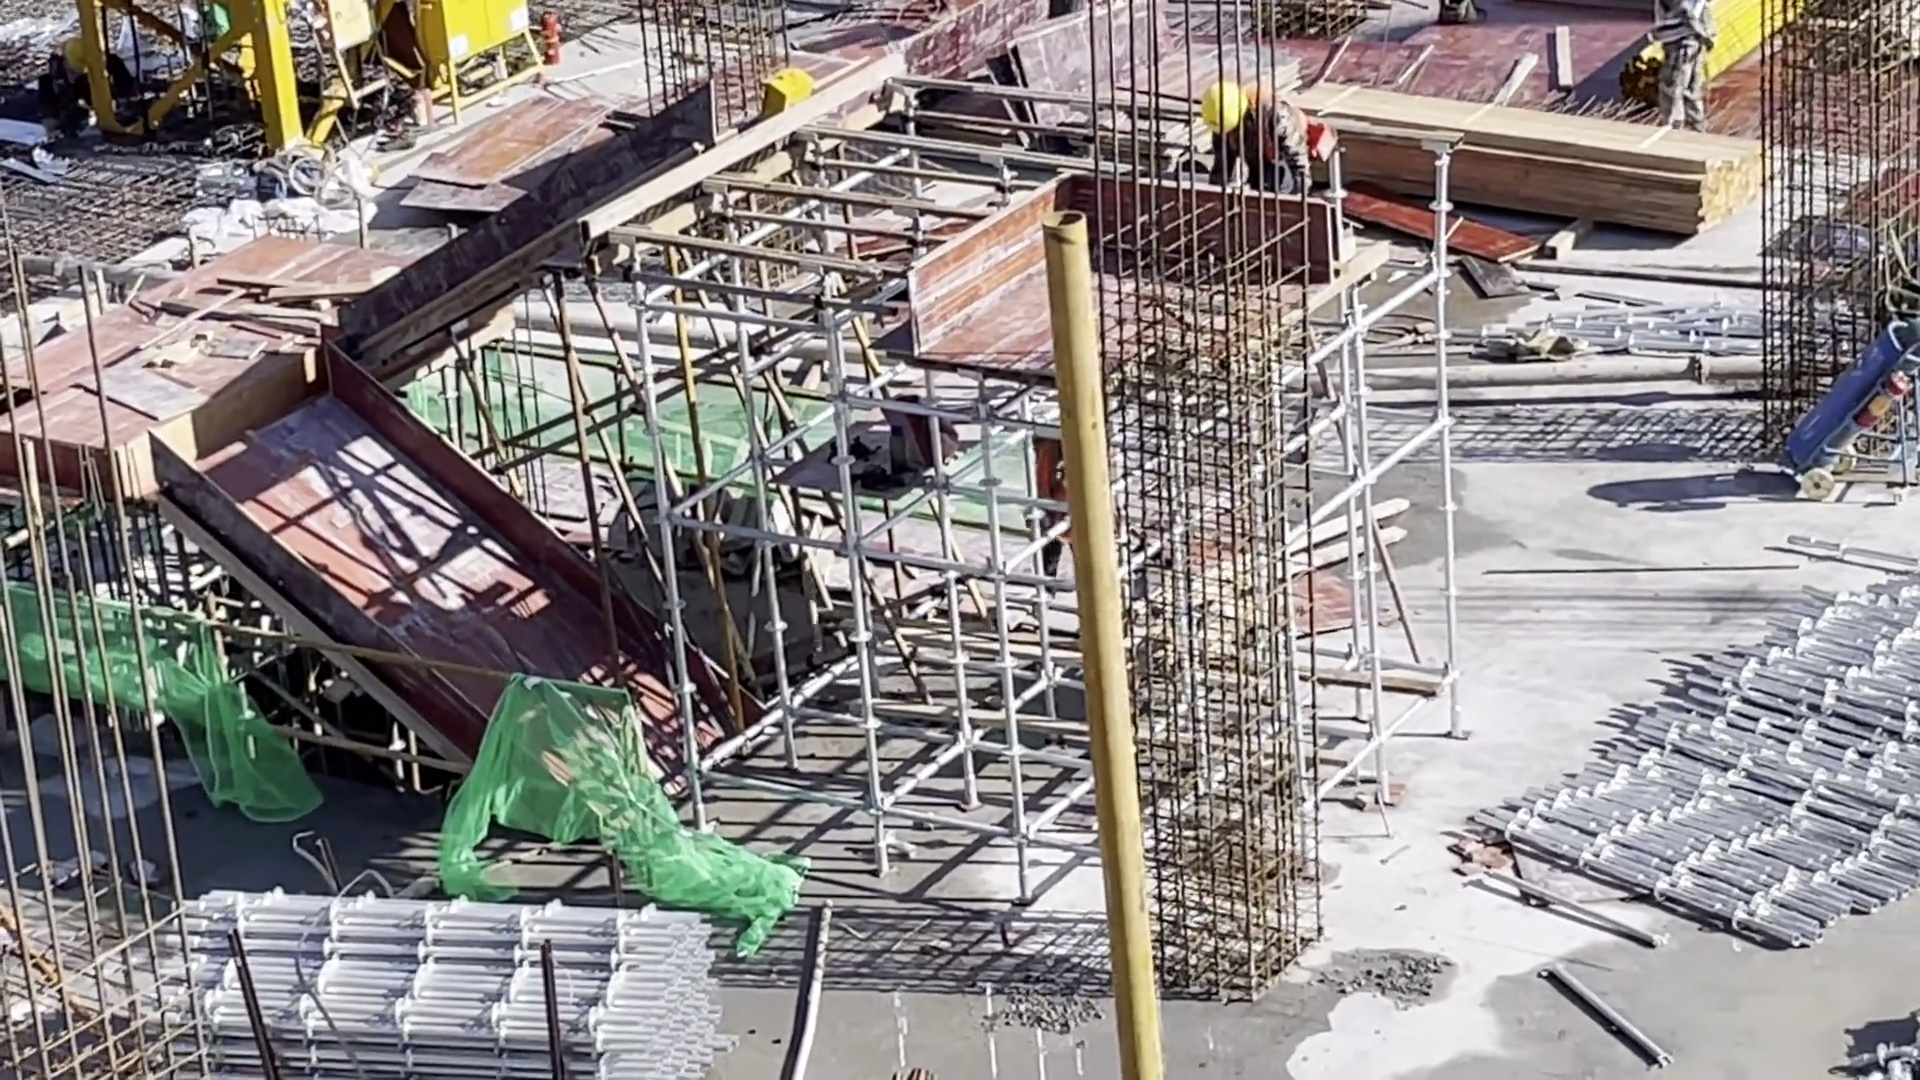ebox: (415, 1, 558, 117)
helmet: (1206, 86, 1244, 138), (61, 36, 92, 72)
person: (1208, 85, 1319, 183), (1025, 434, 1083, 590), (41, 34, 133, 125), (1659, 2, 1718, 131)
scaffold: (1470, 585, 1920, 952), (155, 886, 744, 1076)
vest: (1250, 87, 1295, 175)
wood: (1298, 71, 1762, 238)
